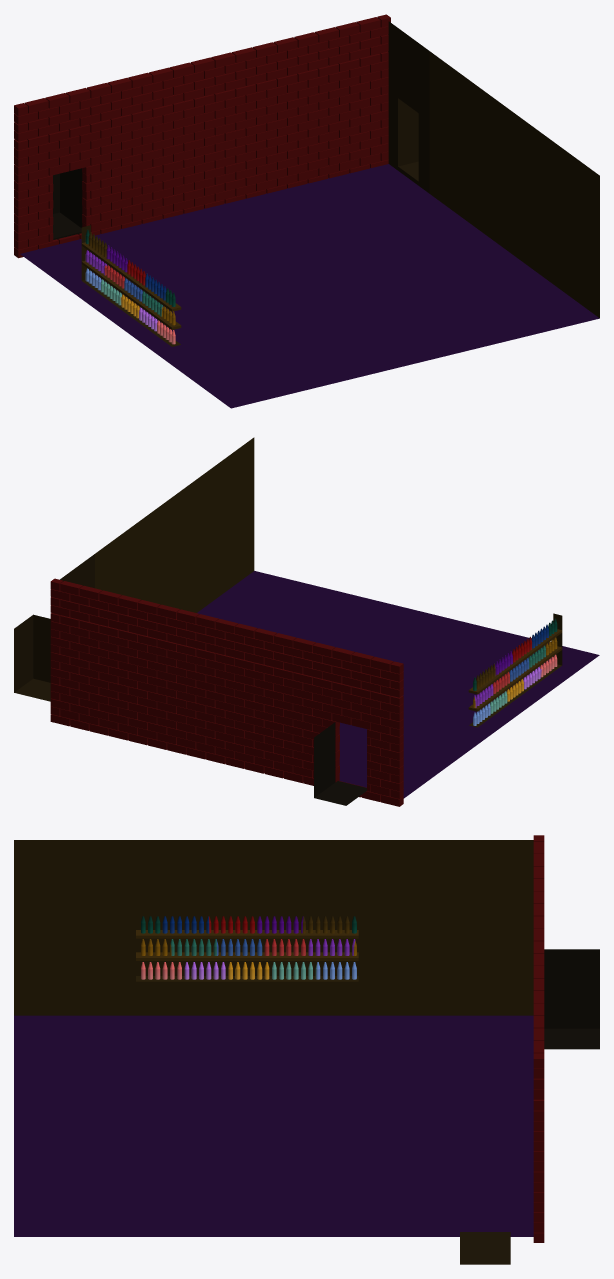
File: comedy_club.glb
3 renders of one model, top to bottom at view 1: azimuth 30°, elevation 25°; view 2: azimuth 150°, elevation 25°; view 3: azimuth 270°, elevation 25°, orthographic. The views are drawn at different scales.
Visible parts, largest first — view 1: ComedyClubBuilding; view 2: ComedyClubBuilding; view 3: ComedyClubBuilding.
Part boxes in pixels (x1=…): ComedyClubBuilding: x1=14, y1=14, x2=599, y2=408; ComedyClubBuilding: x1=14, y1=437, x2=599, y2=806; ComedyClubBuilding: x1=14, y1=835, x2=599, y2=1264.
Size of the model in its own units: 47.18 by 15.59 by 44.94.
1 material, 1 textured.
